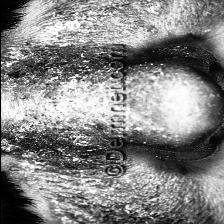Unclassified: (30, 61, 78, 87), (63, 152, 85, 192)
